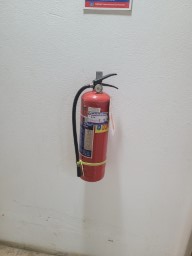fire_extinguisher: (54, 97, 137, 159)
